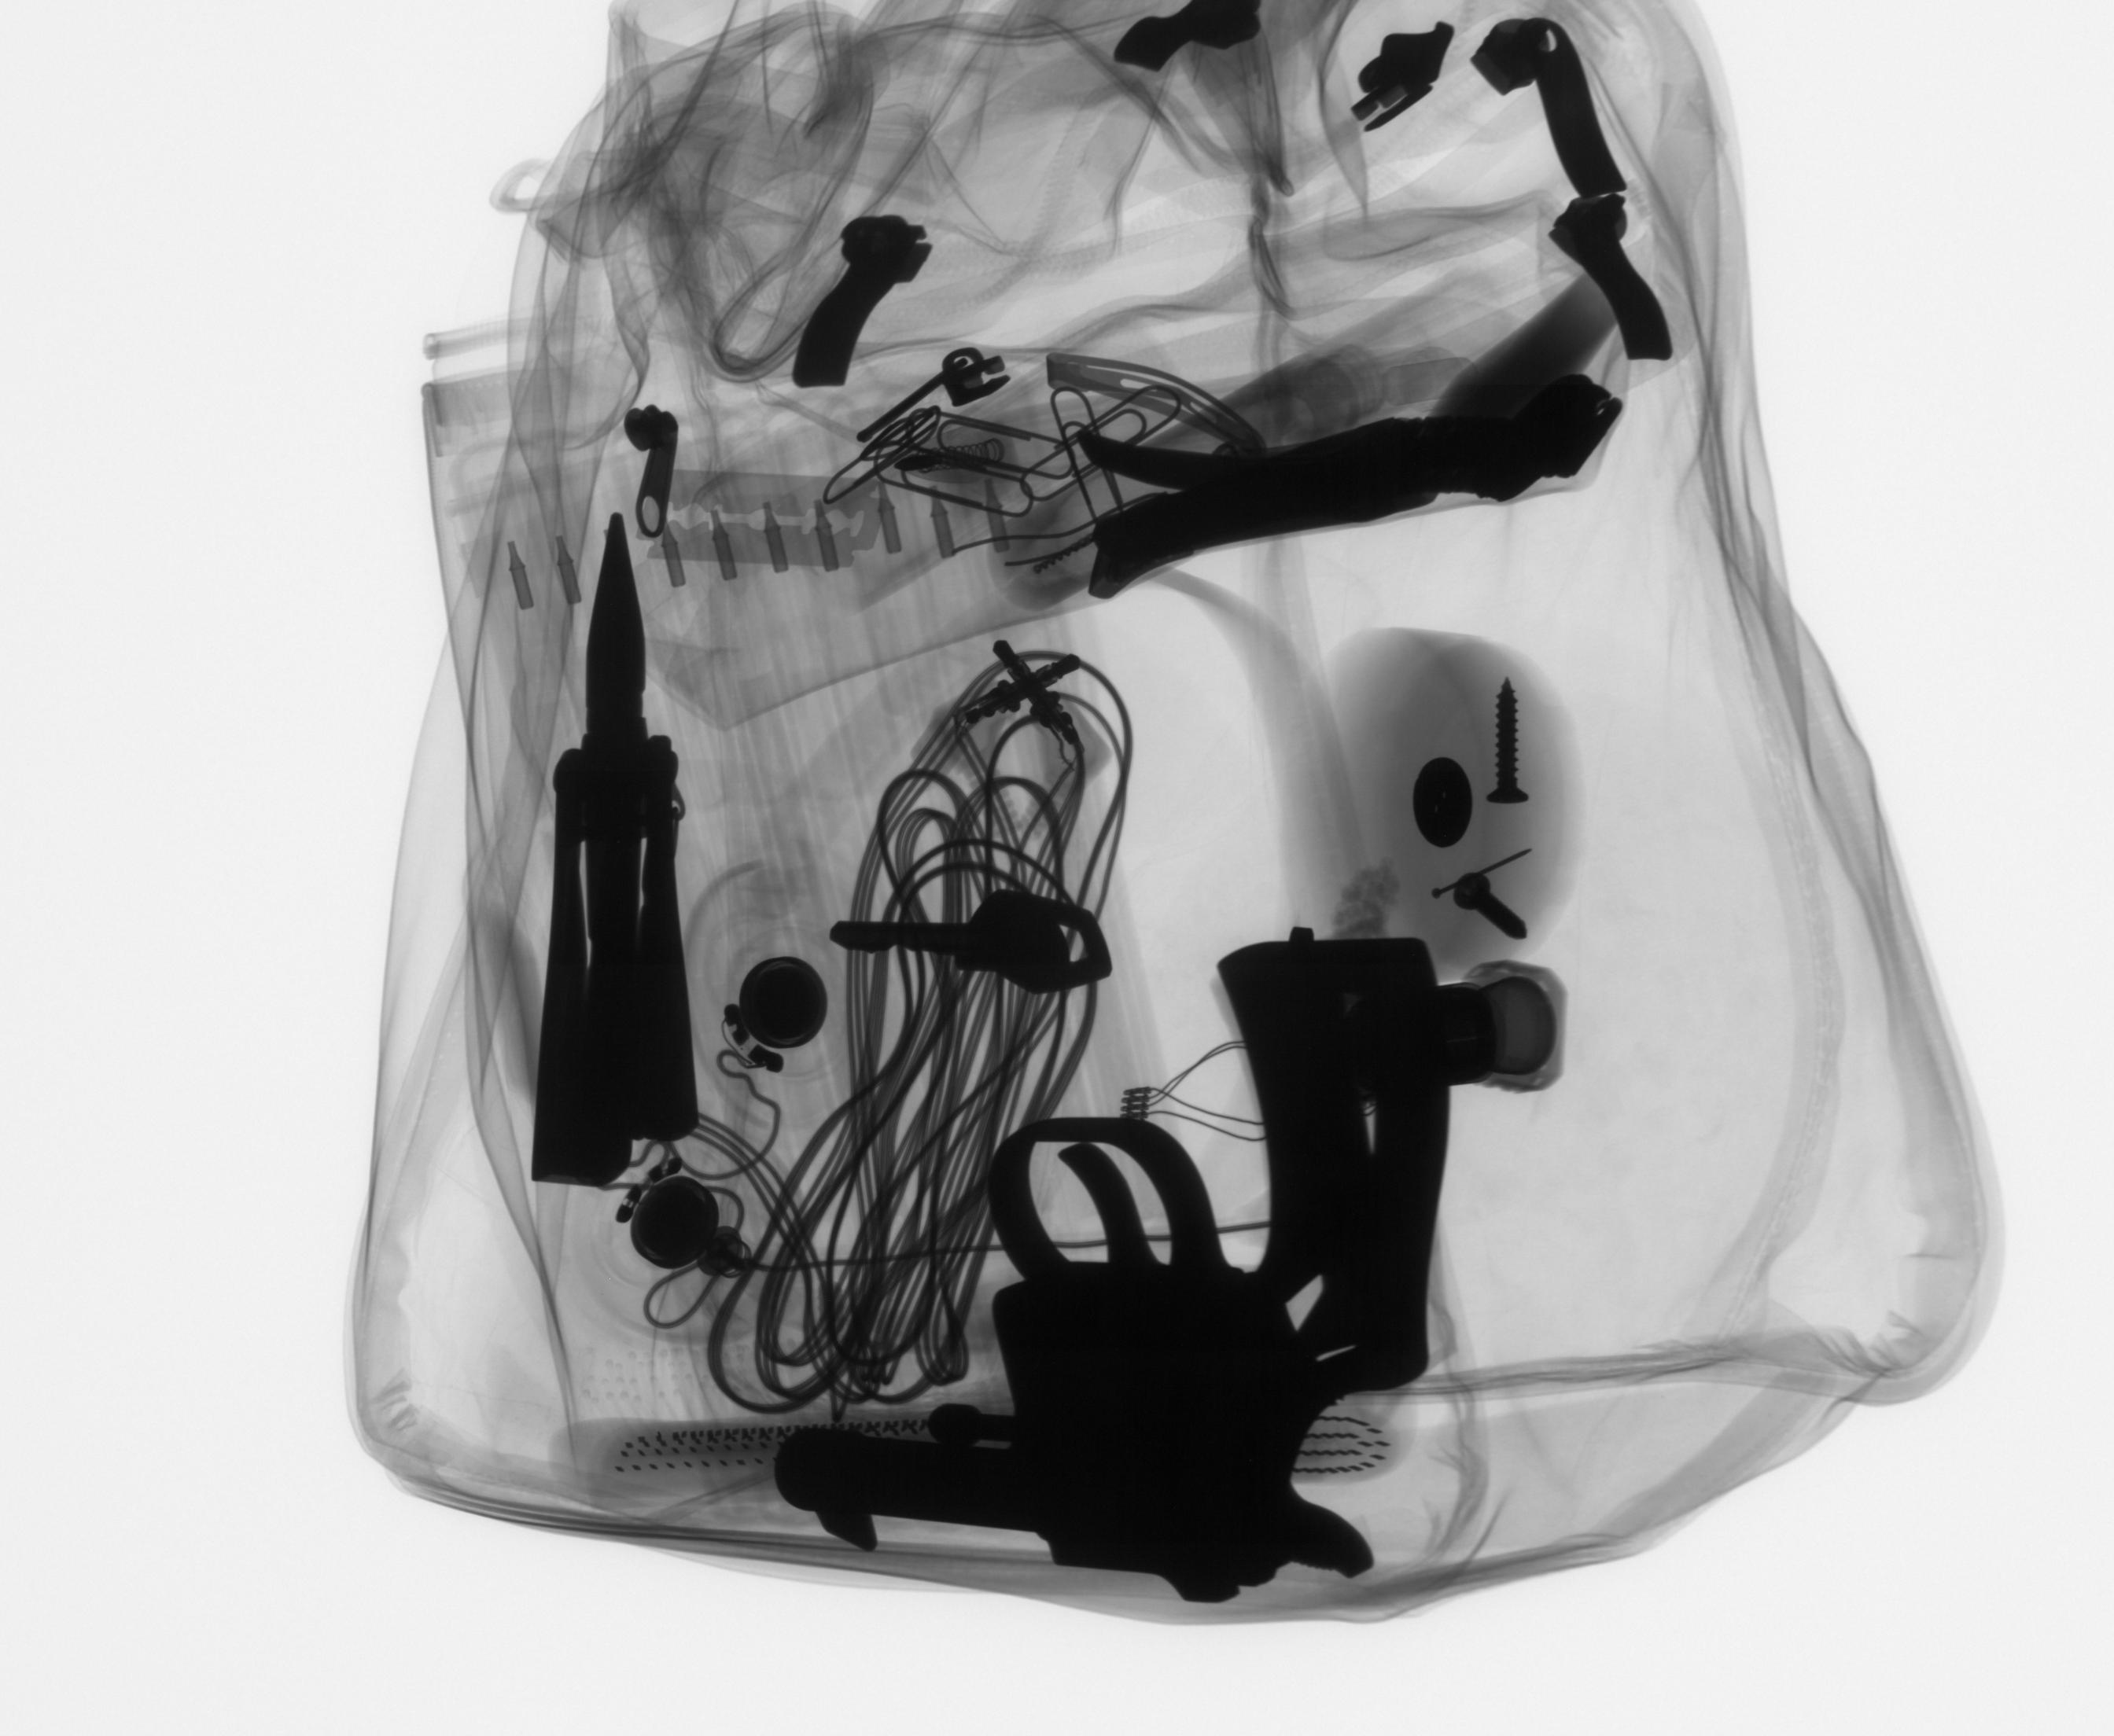Handgun: (764, 918, 1457, 1617)
RazorBlade: (640, 462, 893, 587)
